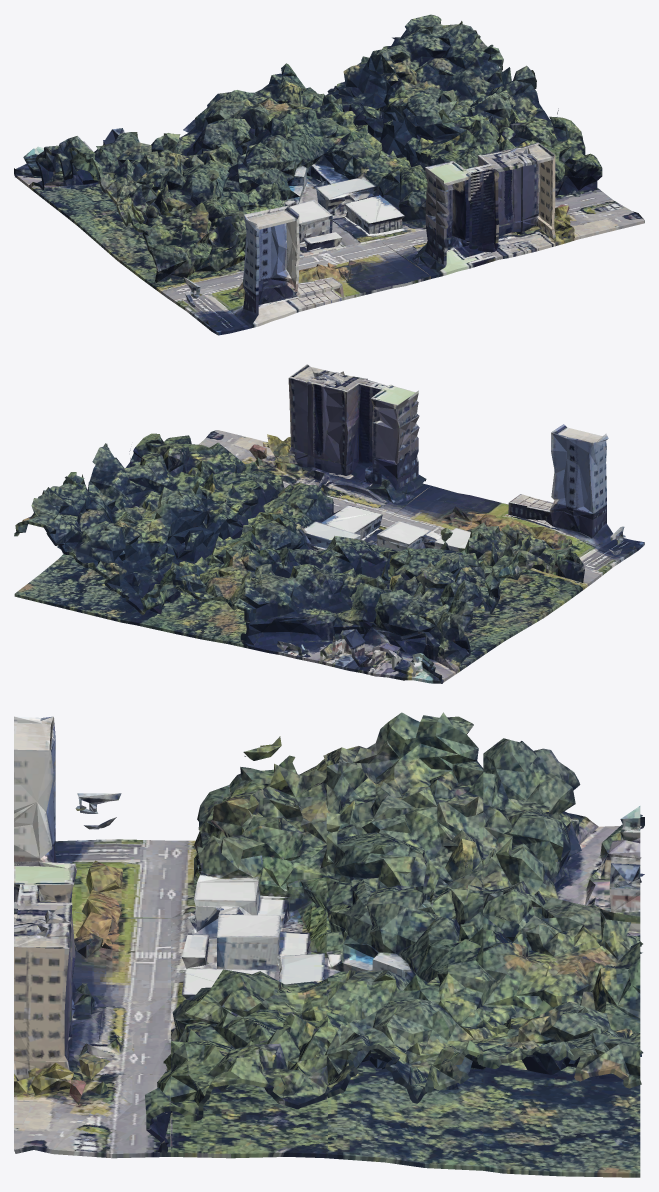
Rendered from Split23.fbx.
3 views of the same model, one above another, from view 1: azimuth 30°, elevation 25°; view 2: azimuth 150°, elevation 25°; view 3: azimuth 270°, elevation 25° (orthographic). The views are drawn at different scales.
Parts seen in each view (by area): view 1: BuildingMesh-00027; view 2: BuildingMesh-00027; view 3: BuildingMesh-00027.
Boxes of the visible parts, bbox=[...] form: BuildingMesh-00027: bbox=[14, 14, 644, 335]; BuildingMesh-00027: bbox=[14, 364, 644, 683]; BuildingMesh-00027: bbox=[14, 712, 644, 1177].
Bounding box in the file's own units: 196 × 48.25 × 161.
5 materials, 5 textured.
